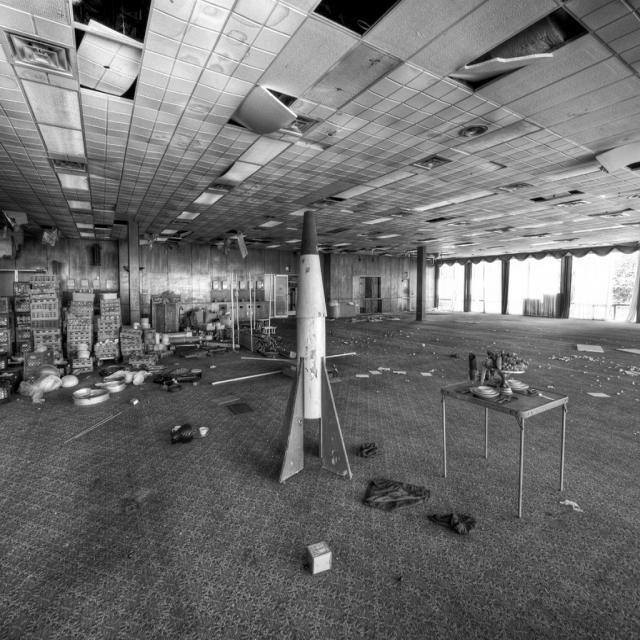missile: (290, 201, 335, 417)
